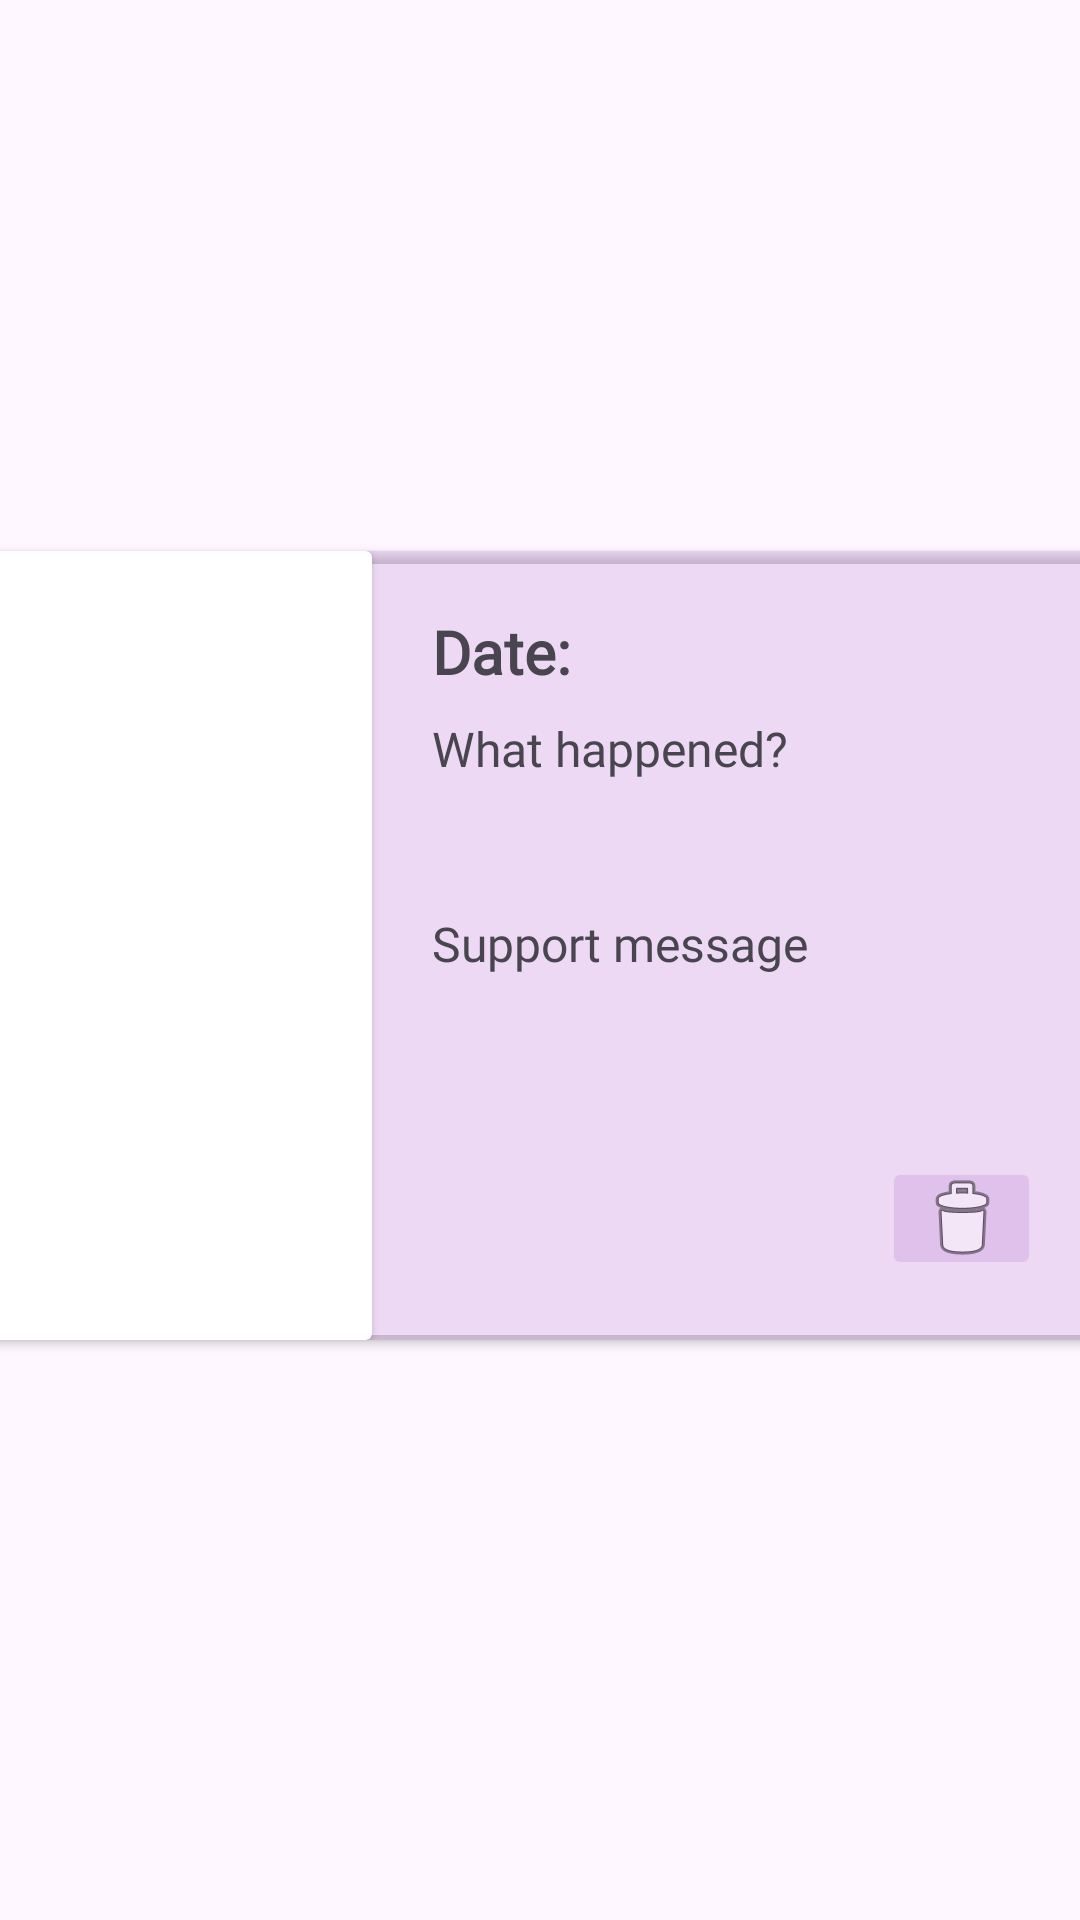

Screen size 1080*1920. Icon name, then its center in pixels as [x,y]:
delete: [961,1218]
